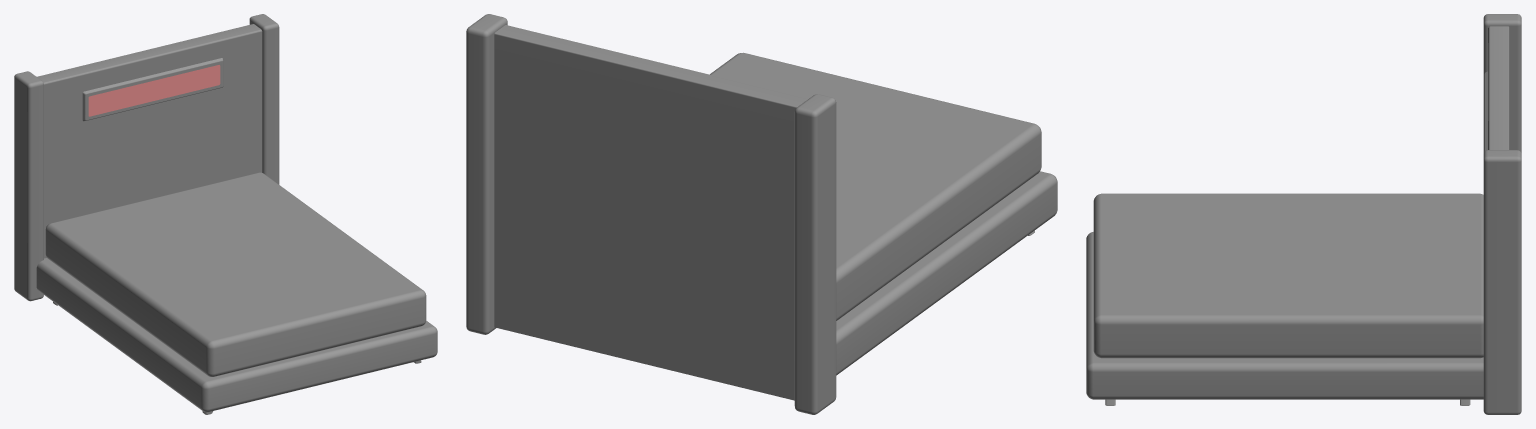
File: S_Envi_Wlbl_Bed_02a.gltf
3 views of the same model, side by side, from view 1: azimuth 30°, elevation 25°; view 2: azimuth 150°, elevation 25°; view 3: azimuth 270°, elevation 25° (orthographic). The views are drawn at different scales.
Visible parts, largest first — view 1: S_Envi_Wlbl_Bed_02a; view 2: S_Envi_Wlbl_Bed_02a; view 3: S_Envi_Wlbl_Bed_02a.
Boxes of the visible parts, x1=… form: S_Envi_Wlbl_Bed_02a: x1=14, y1=14, x2=437, y2=414; S_Envi_Wlbl_Bed_02a: x1=466, y1=14, x2=1057, y2=414; S_Envi_Wlbl_Bed_02a: x1=1086, y1=14, x2=1521, y2=414.
Bounding box in the file's own units: 1.92 × 1.59 × 2.43.
